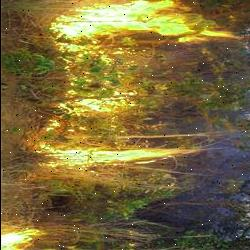fire: (32, 0, 236, 174), (0, 215, 48, 250)
